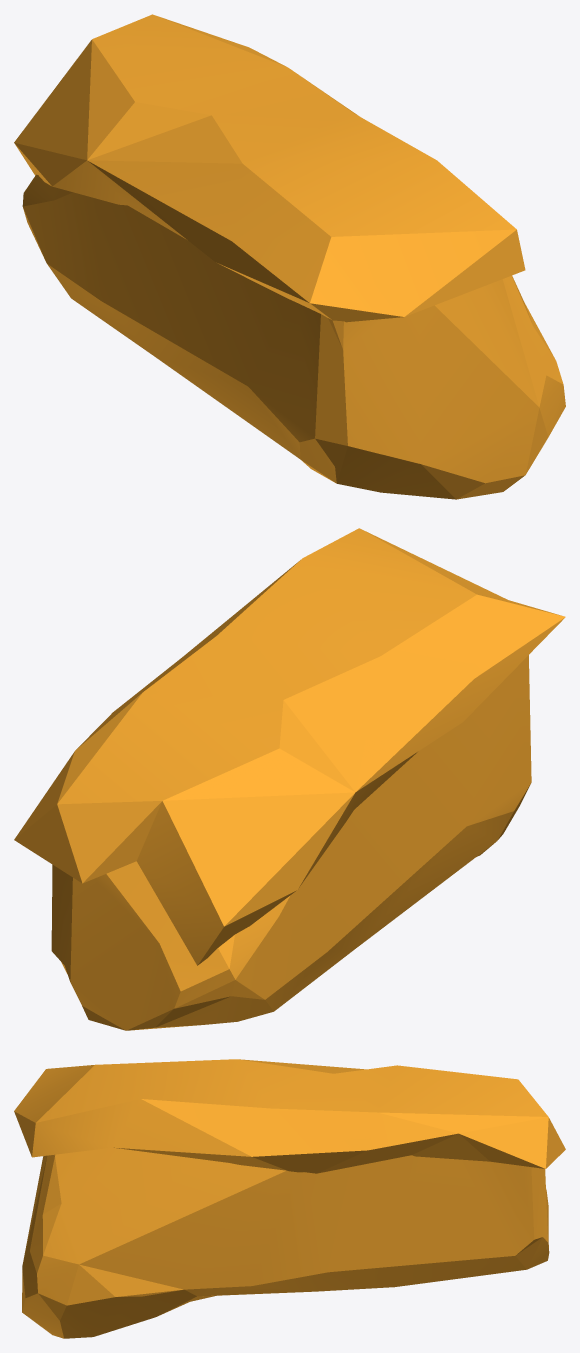
The model's file is SM_Menhir_C_Horizontal_Snow.fbx.
3 views of the same model, one above another, from view 1: azimuth 30°, elevation 25°; view 2: azimuth 150°, elevation 25°; view 3: azimuth 270°, elevation 25° (orthographic). The views are drawn at different scales.
Parts seen in each view (by area): view 1: menhir-c-horizontal-snow; view 2: menhir-c-horizontal-snow; view 3: menhir-c-horizontal-snow.
Boxes of the visible parts, bbox=[...] form: menhir-c-horizontal-snow: bbox=[14, 14, 565, 499]; menhir-c-horizontal-snow: bbox=[14, 528, 565, 1030]; menhir-c-horizontal-snow: bbox=[14, 1059, 565, 1338].
Bounding box in the file's own units: 2.19 × 2.26 × 4.87.
